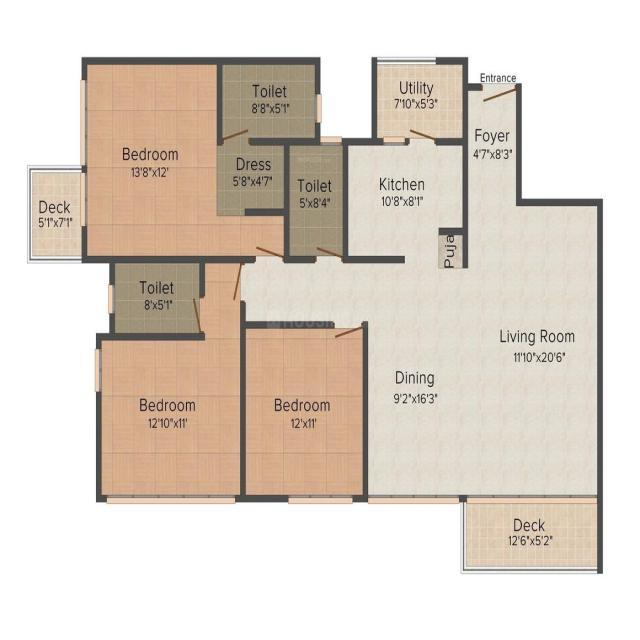Bedroom: (83, 58, 222, 260), (96, 336, 246, 503), (242, 318, 367, 500)
Dress: (220, 137, 285, 219)
Enterance-Foyer: (466, 62, 521, 200)
Kitchen: (343, 137, 467, 265)
Living: (468, 199, 602, 497)
Toilet: (219, 59, 321, 144), (110, 260, 204, 342), (287, 141, 344, 261)
Utility: (372, 57, 466, 142)
